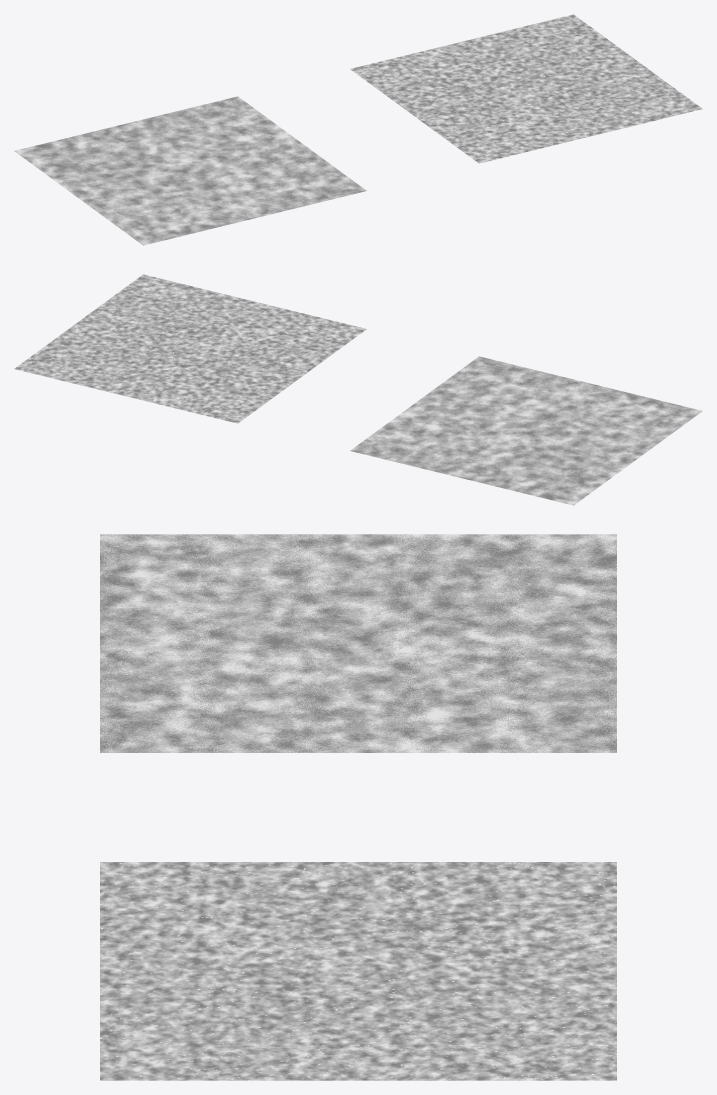
File: field_detail.glb
3 renders of one model, top to bottom at view 1: azimuth 30°, elevation 25°; view 2: azimuth 150°, elevation 25°; view 3: azimuth 270°, elevation 25°, orthographic. The views are drawn at different scales.
Parts seen in each view (by area): view 1: dirt, grass; view 2: dirt, grass; view 3: dirt, grass.
Part boxes in pixels (x1,y1,x2,y2): dirt: (350,14,702,163); grass: (14,96,366,245); dirt: (14,274,366,423); grass: (350,356,702,505); dirt: (100,862,616,1080); grass: (100,534,616,752).
Size of the model in its own units: 2.5 by 0 by 1.
2 materials, 2 textured.
